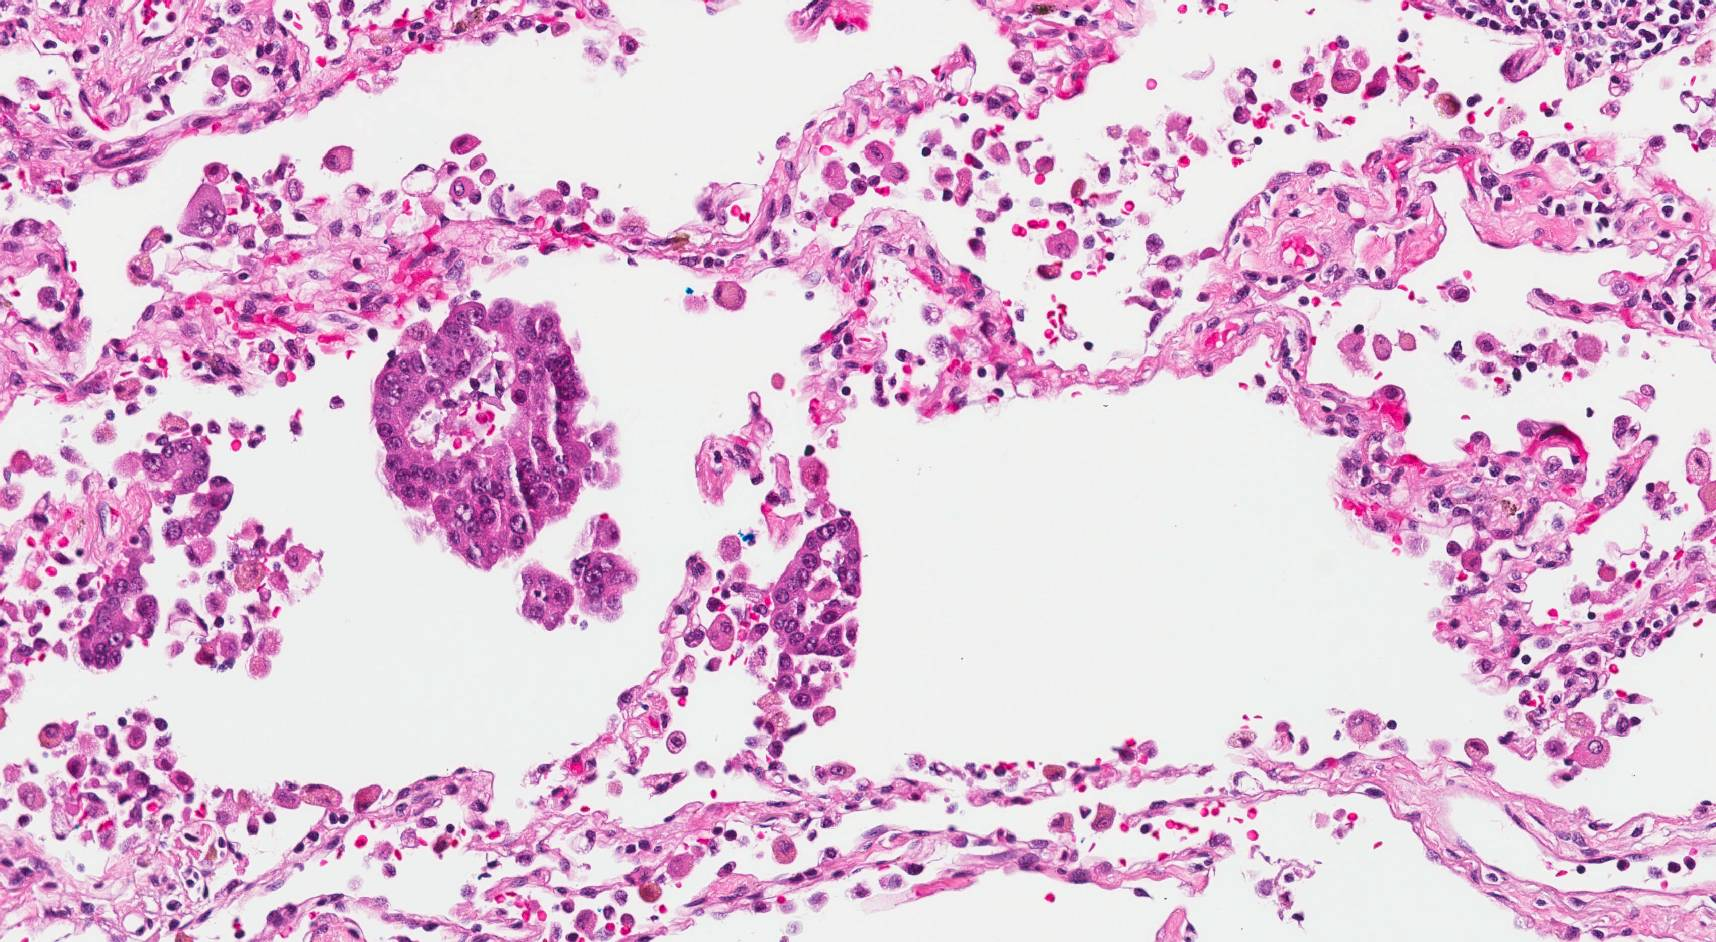stas: (369, 300, 591, 571), (769, 516, 862, 709), (76, 561, 163, 676), (163, 473, 232, 544), (574, 550, 638, 622), (139, 434, 210, 498), (517, 562, 576, 632), (177, 184, 224, 238)
